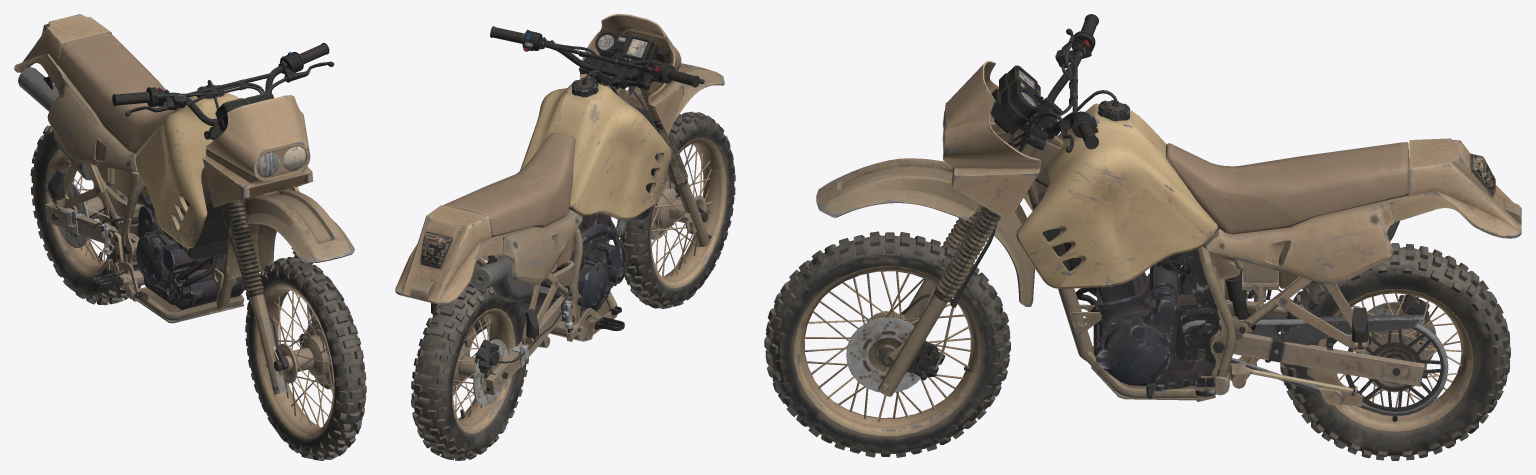
File: VEH_DirtBike_TMO450.glb
3 renders of one model, left to right at view 1: azimuth 30°, elevation 25°; view 2: azimuth 150°, elevation 25°; view 3: azimuth 270°, elevation 25°, orthographic. The views are drawn at different scales.
Visible parts, largest first — view 1: ob_veh_motorcycle_dirtbike01_base_s0, ob_veh_motorcycle_dirtbike01_base_s3, ob_veh_motorcycle_dirtbike01_base_s2; view 2: ob_veh_motorcycle_dirtbike01_base_s0, ob_veh_motorcycle_dirtbike01_base_s3, ob_veh_motorcycle_dirtbike01_base_s2, ob_veh_motorcycle_dirtbike01_base_s1; view 3: ob_veh_motorcycle_dirtbike01_base_s0.
Part boxes in pixels (left/top/right/bottom): ob_veh_motorcycle_dirtbike01_base_s0: left=14, top=14, right=366, bottom=460; ob_veh_motorcycle_dirtbike01_base_s3: left=41, top=24, right=305, bottom=176; ob_veh_motorcycle_dirtbike01_base_s2: left=257, top=147, right=305, bottom=176; ob_veh_motorcycle_dirtbike01_base_s0: left=395, top=14, right=735, bottom=460; ob_veh_motorcycle_dirtbike01_base_s3: left=420, top=233, right=450, bottom=266; ob_veh_motorcycle_dirtbike01_base_s2: left=422, top=34, right=647, bottom=266; ob_veh_motorcycle_dirtbike01_base_s1: left=598, top=35, right=647, bottom=57; ob_veh_motorcycle_dirtbike01_base_s0: left=764, top=14, right=1521, bottom=460.
Size of the model in its own units: 0.8853 by 1.29 by 2.29.
Materials: 4 (3 with a texture image).
